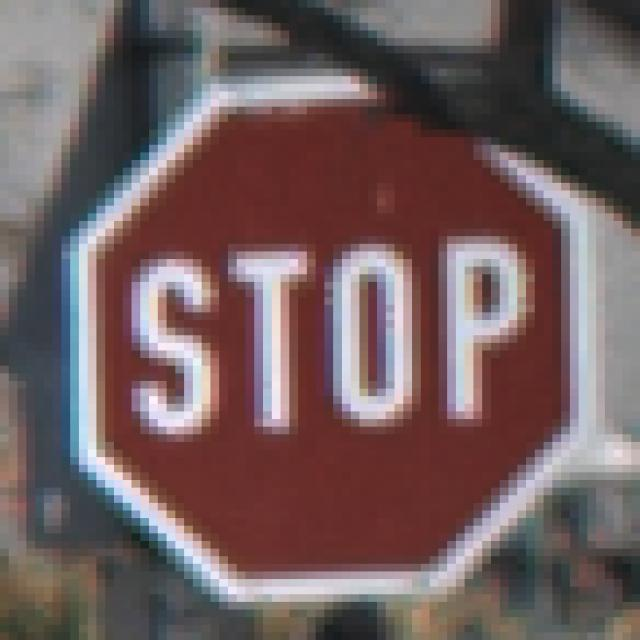STOP: (63, 62, 589, 588)
